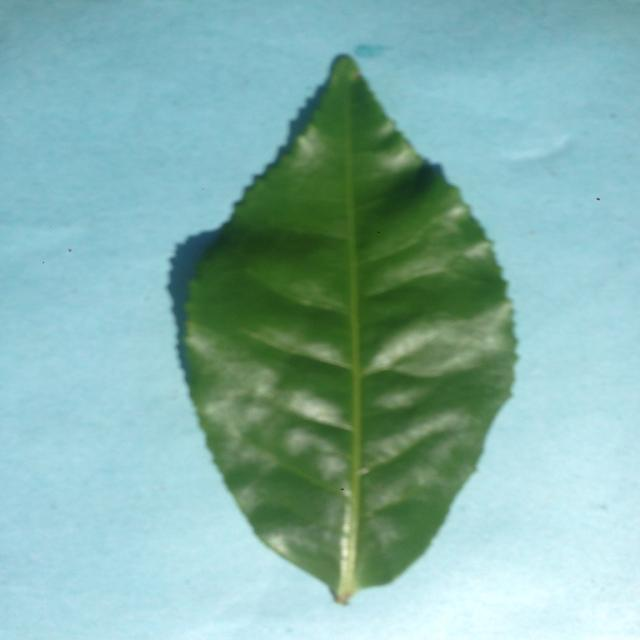Healthy: (145, 33, 545, 616)
